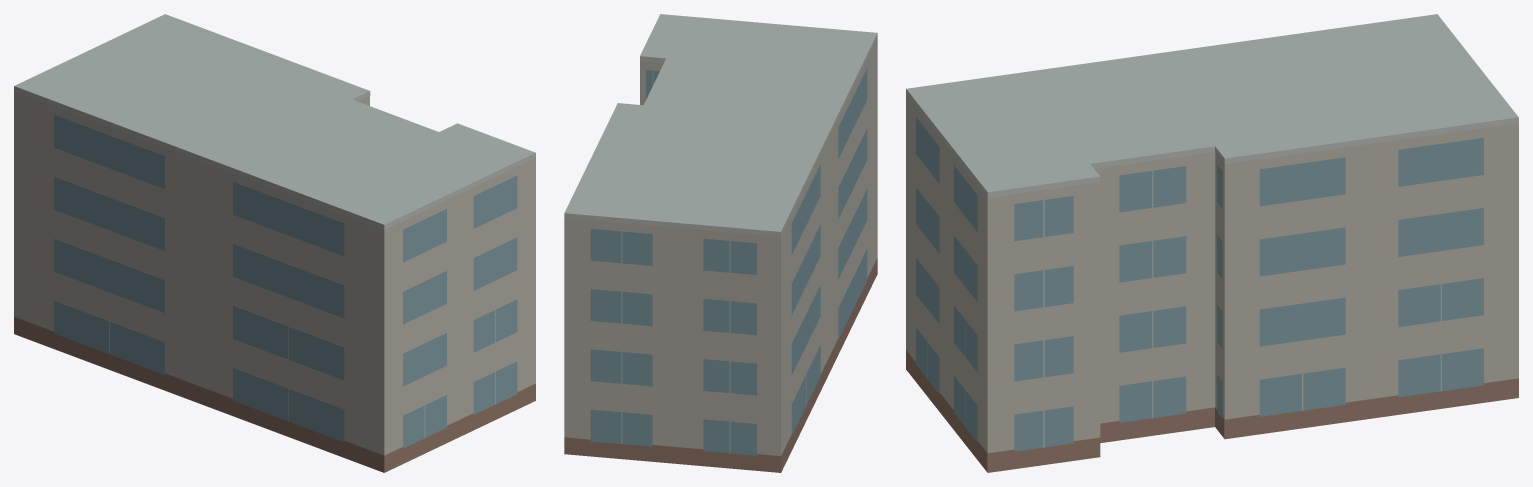
File: residential-e9cfc8bb-5e07-41c9-a96d-d3004473ab27.glb
3 views of the same model, side by side, from view 1: azimuth 30°, elevation 25°; view 2: azimuth 150°, elevation 25°; view 3: azimuth 270°, elevation 25° (orthographic). The views are drawn at different scales.
Parts seen in each view (by area): view 1: residential-e9cfc8bb-5e07-41c9-a96d-d3004473ab27.tmp; view 2: residential-e9cfc8bb-5e07-41c9-a96d-d3004473ab27.tmp; view 3: residential-e9cfc8bb-5e07-41c9-a96d-d3004473ab27.tmp.
Part boxes in pixels (x1,y1,x2,y2): residential-e9cfc8bb-5e07-41c9-a96d-d3004473ab27.tmp: (14,14,535,472); residential-e9cfc8bb-5e07-41c9-a96d-d3004473ab27.tmp: (564,14,877,472); residential-e9cfc8bb-5e07-41c9-a96d-d3004473ab27.tmp: (906,14,1518,472).
Size of the model in its own units: 16.64 by 12.2 by 24.16.
